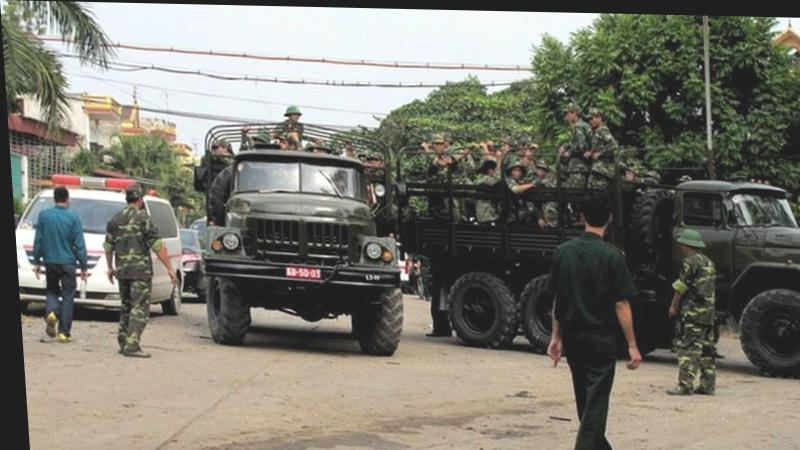License_Plate: (285, 262, 325, 286)
